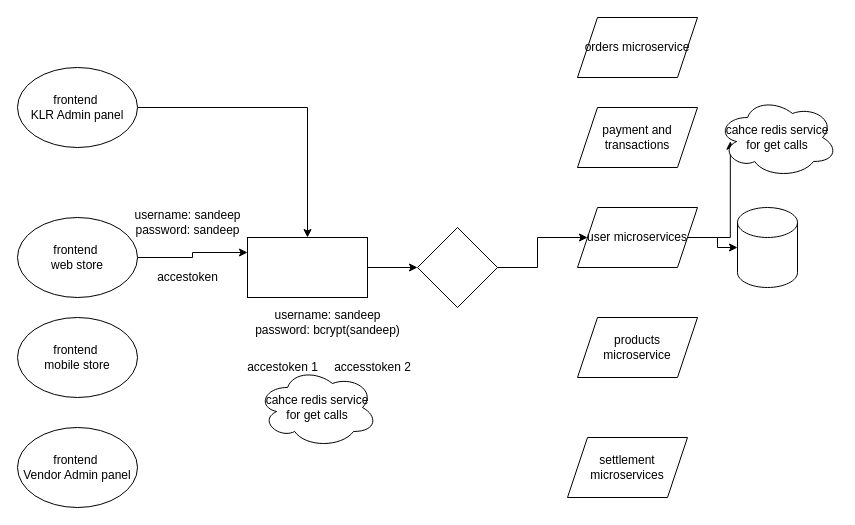
The diagram is 855 pixels wide and 525 high, and some of its shapes have lost their labels. Each missing label, with the box of its shape:
API Getway Routing to coresponding microservices: (246, 236, 368, 298)
isuser service call: (416, 226, 498, 308)
user DB: (736, 206, 798, 288)
